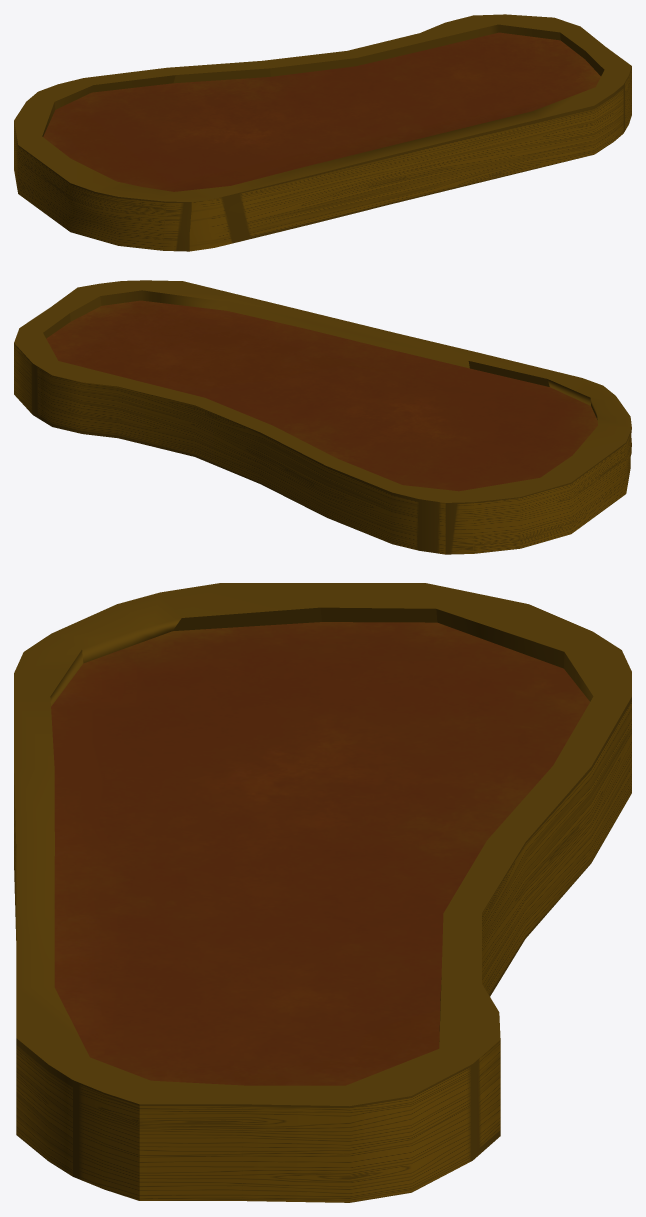
Rendered from FlowerBedAsset.fbx.
The picture shows the model from 3 angles, top to bottom: view 1: azimuth 30°, elevation 25°; view 2: azimuth 150°, elevation 25°; view 3: azimuth 270°, elevation 25°; orthographic projection. The views are drawn at different scales.
Parts seen in each view (by area): view 1: pCube1; view 2: pCube1; view 3: pCube1.
Boxes of the visible parts, x1,y1,x2,y2 form: pCube1: (14, 14, 631, 251); pCube1: (14, 280, 631, 554); pCube1: (14, 583, 631, 1202).
Bounding box in the file's own units: 7.43 × 0.6412 × 3.71.
1 material, 1 textured.
